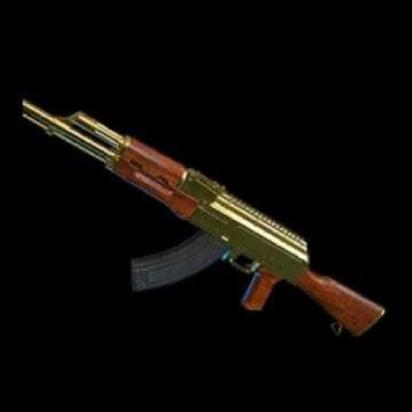Gun: (16, 101, 388, 340)
